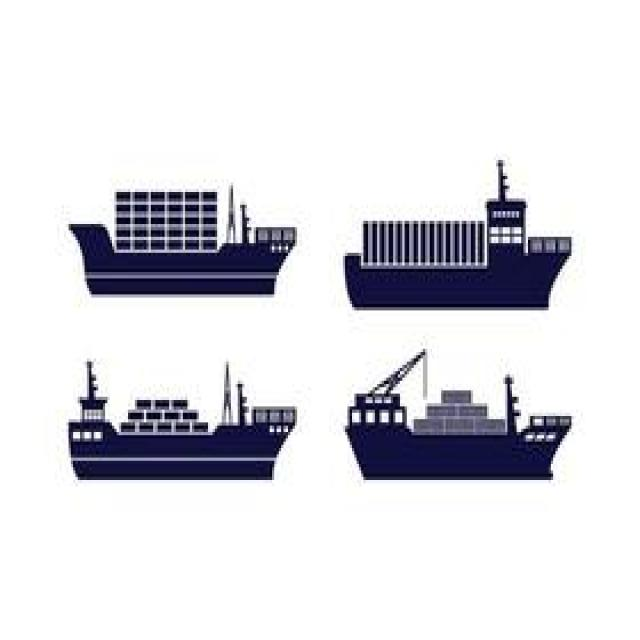boat: (331, 156, 586, 334), (338, 346, 594, 512), (54, 355, 306, 505), (63, 178, 298, 318)
